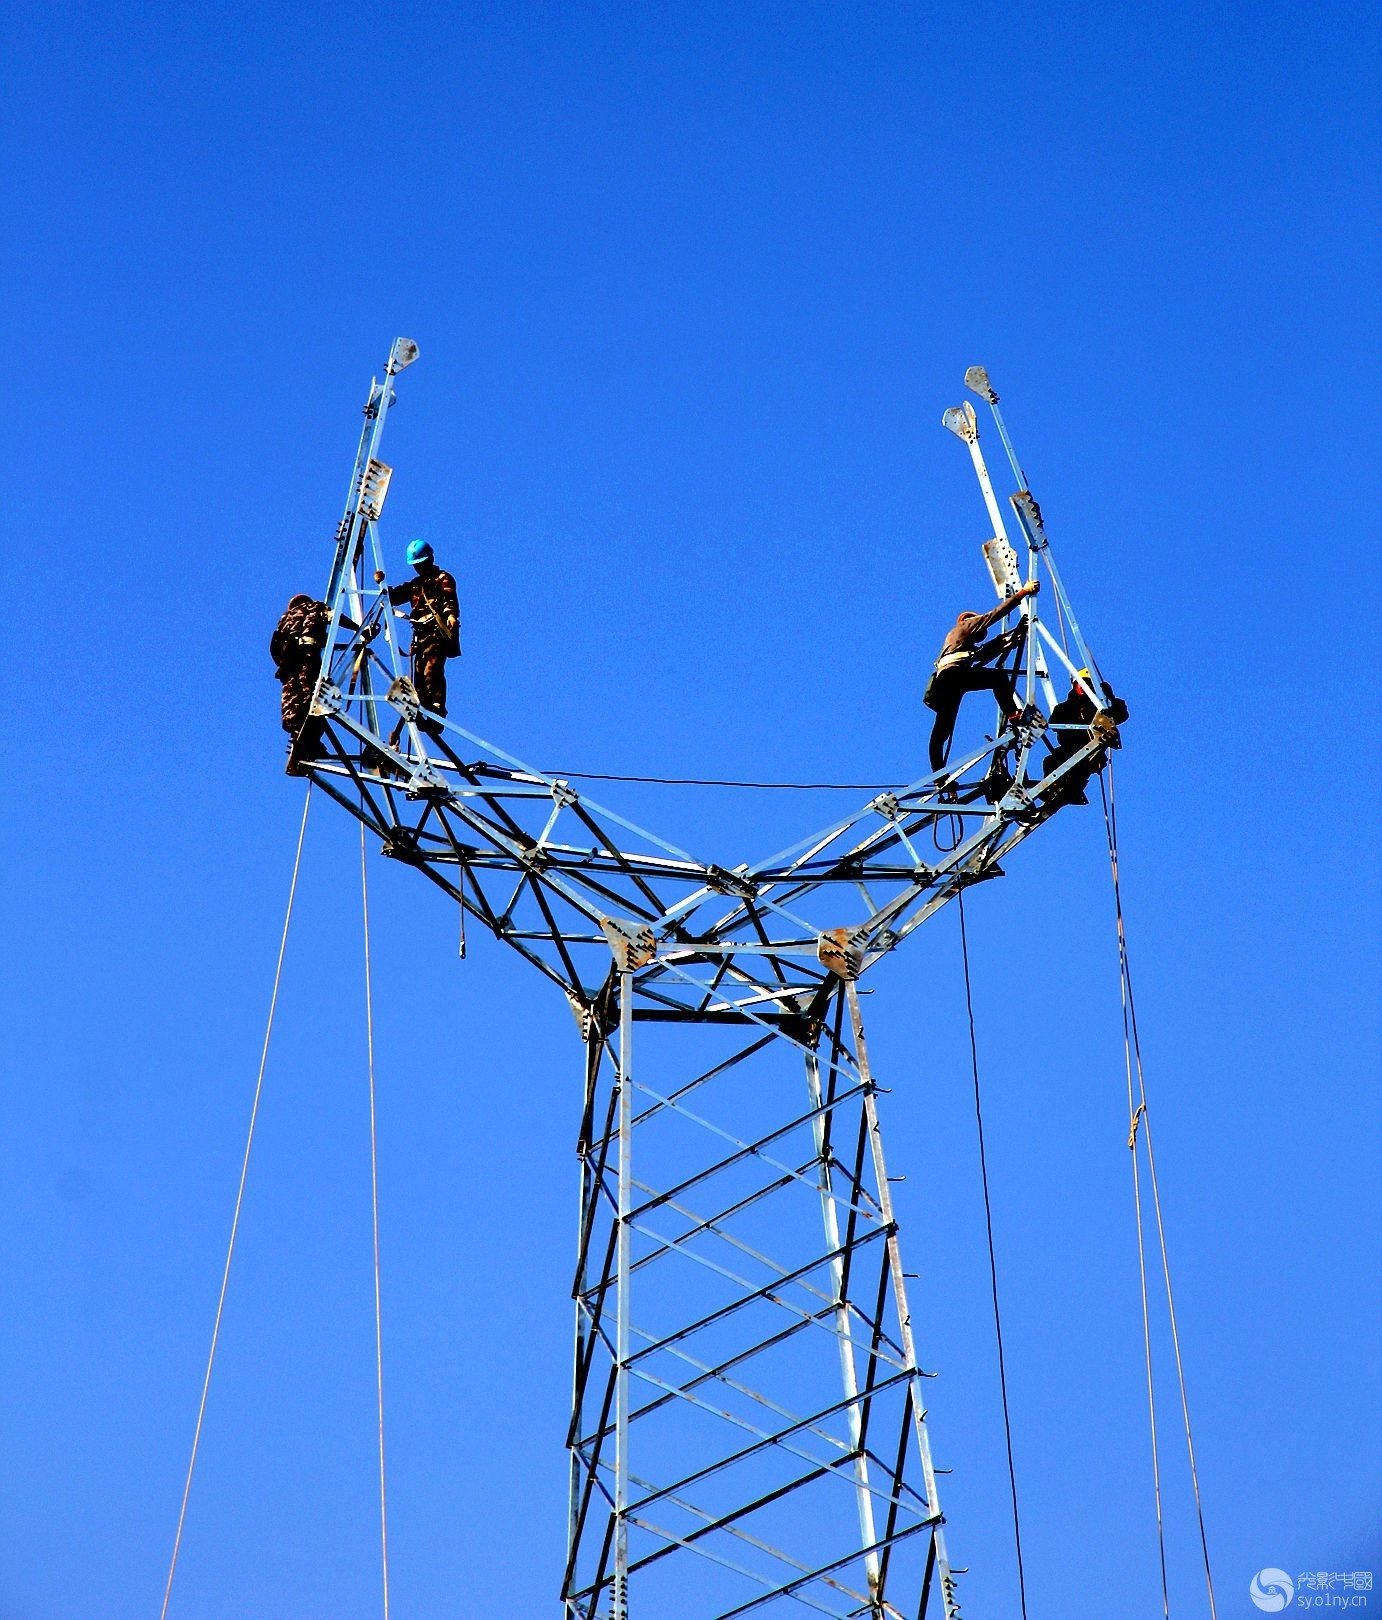blue: (403, 537, 436, 577)
yellow: (958, 611, 989, 643), (1072, 663, 1095, 698)
